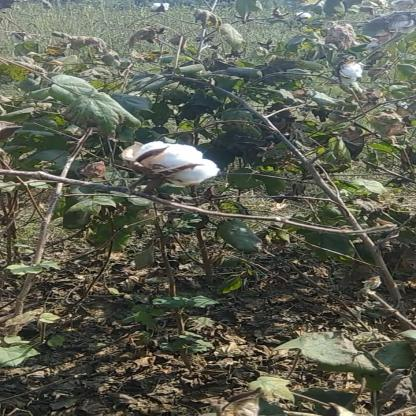cotton_ready: (108, 134, 234, 204)
